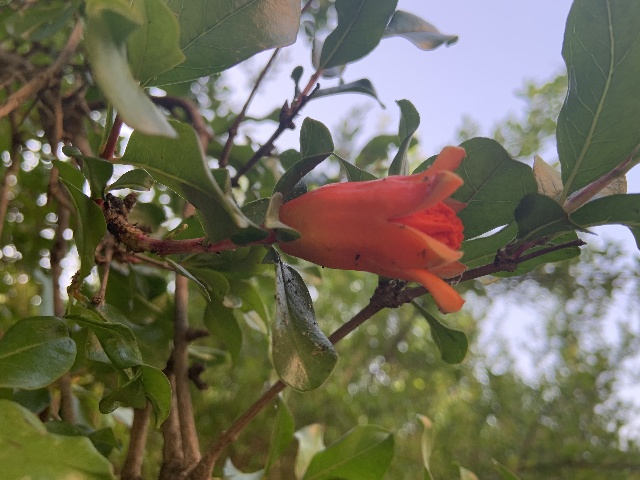flower: (278, 145, 466, 313)
